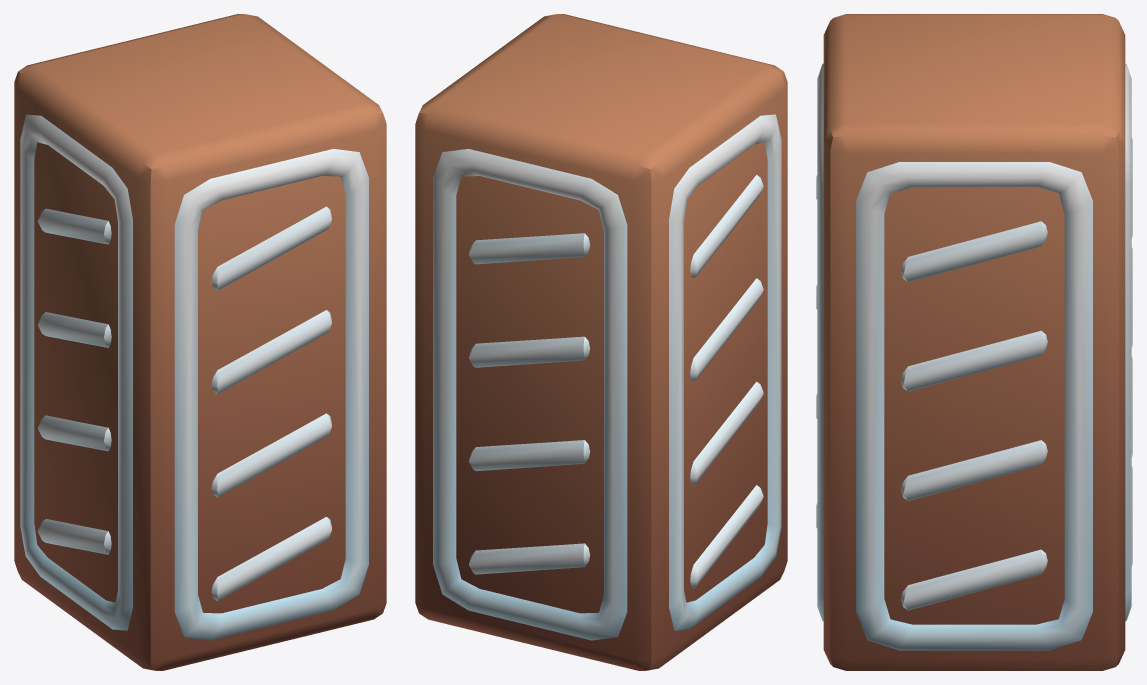
Rendered from pillar_gingerbread_large_A.obj.
3 renders of one model, left to right at view 1: azimuth 30°, elevation 25°; view 2: azimuth 150°, elevation 25°; view 3: azimuth 270°, elevation 25°, orthographic. The views are drawn at different scales.
Visible parts, largest first — view 1: pillar_gingerbread_large_A; view 2: pillar_gingerbread_large_A; view 3: pillar_gingerbread_large_A.
Part boxes in pixels (x1,y1,x2,y2): pillar_gingerbread_large_A: [14, 14, 386, 670]; pillar_gingerbread_large_A: [415, 14, 787, 670]; pillar_gingerbread_large_A: [816, 14, 1132, 670].
Size of the model in its own units: 2.1 by 4 by 2.1.
Materials: 1 (1 with a texture image).
